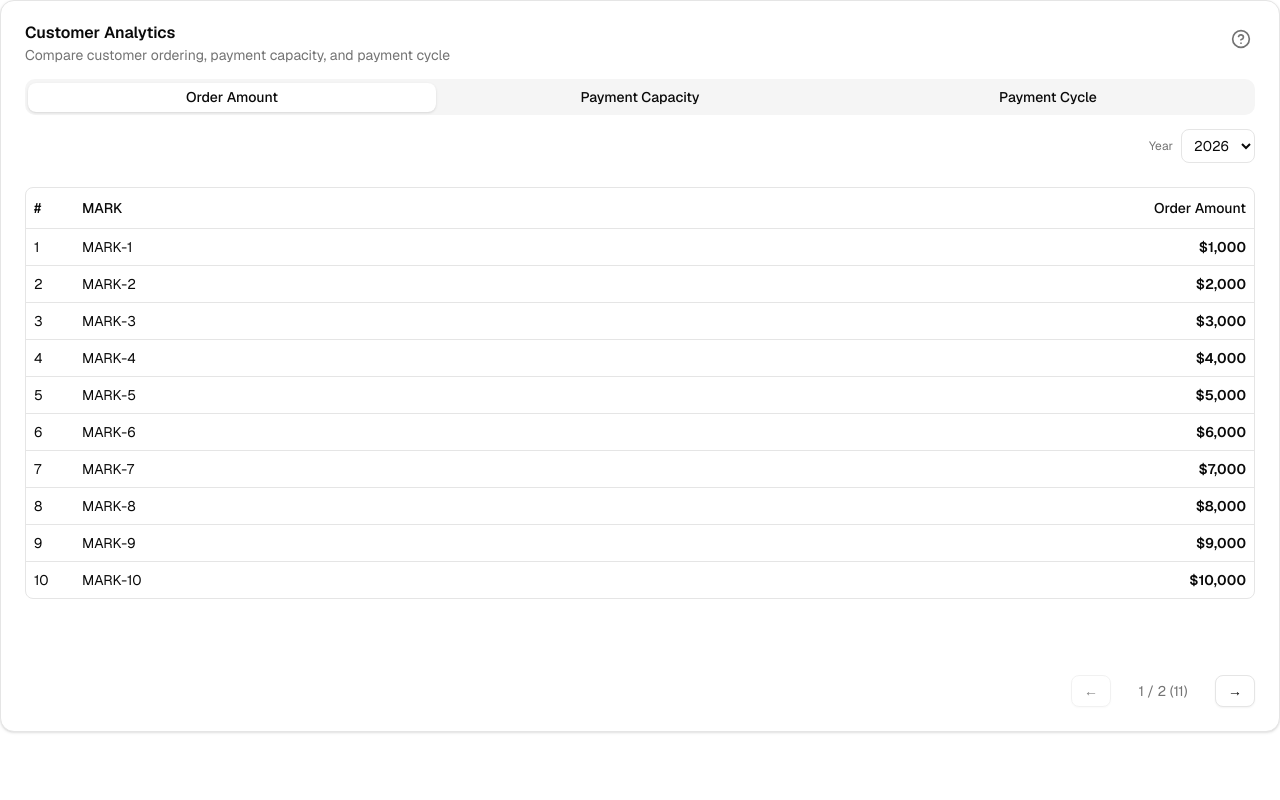
Test case: CustomerAnalyticsCard › keeps independent ten-row pages at the fixed card bottom
expect the row named "Open analytics detail for Customer 10" is shown: met, box [26,561,1254,598]
Click the button named "Next" at [1235, 691], box [1215,675,1255,707]
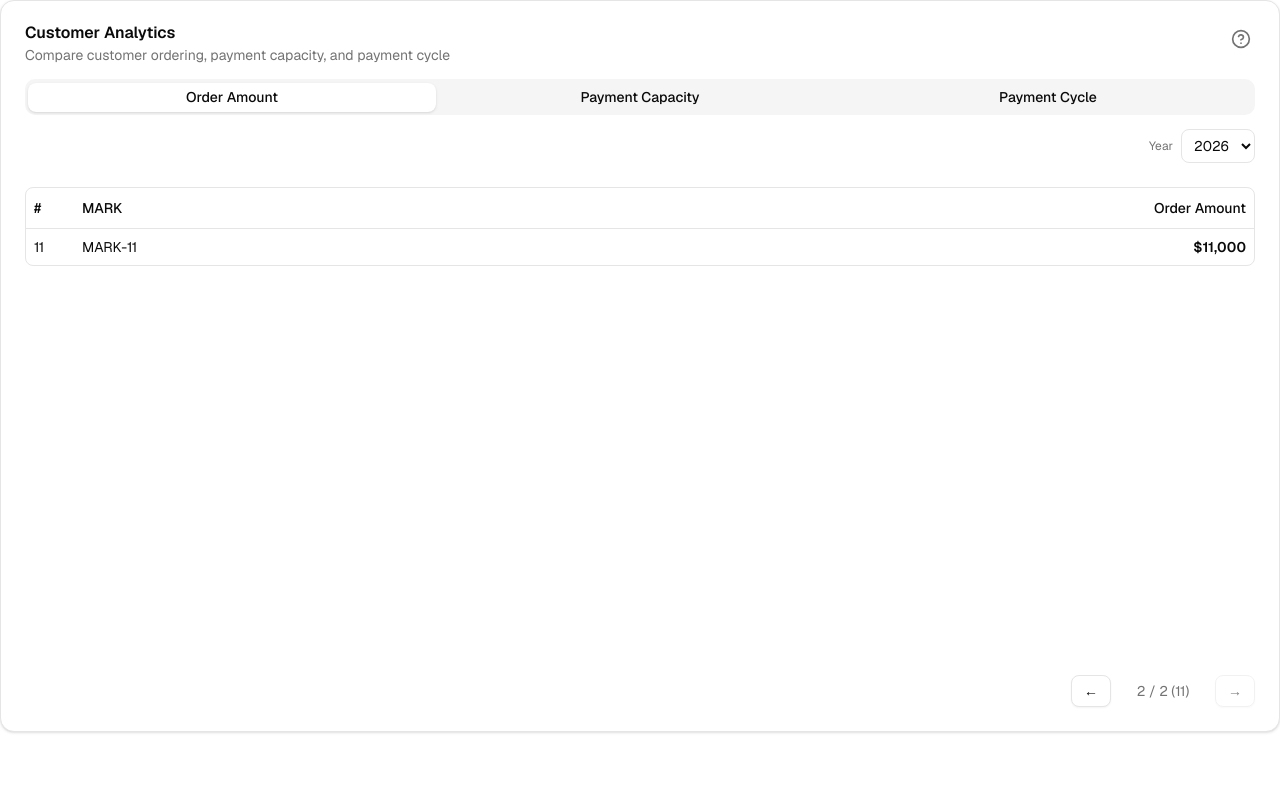
expect the row named "Open analytics detail for Customer 11" is shown: met, box [26,228,1254,264]
Press the mouse on the tab "Payment Capacity" at [640, 97], box [436,82,844,112]
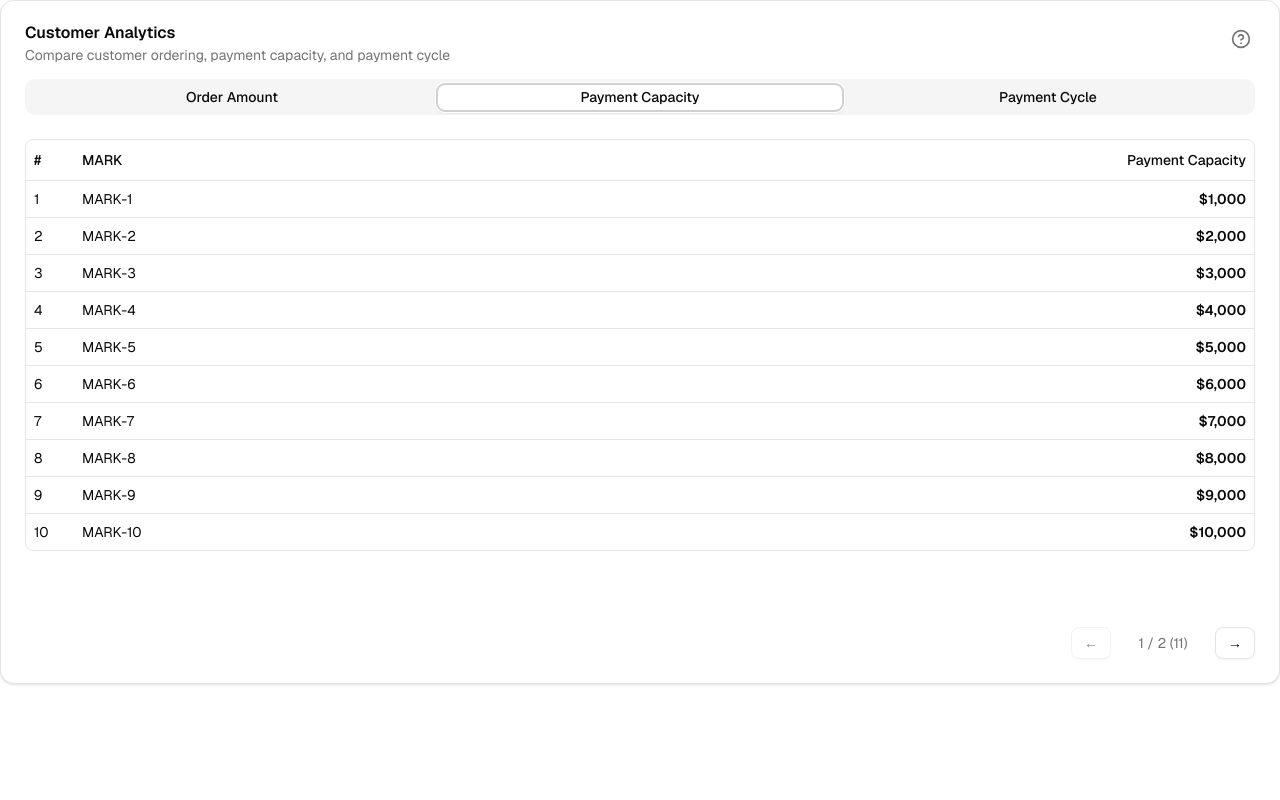
expect the text "1 / 2 (11)" is shown: met, box [1138,634,1188,652]
Press the mouse on the tab "Order Amount" at [232, 97], box [28,82,436,112]
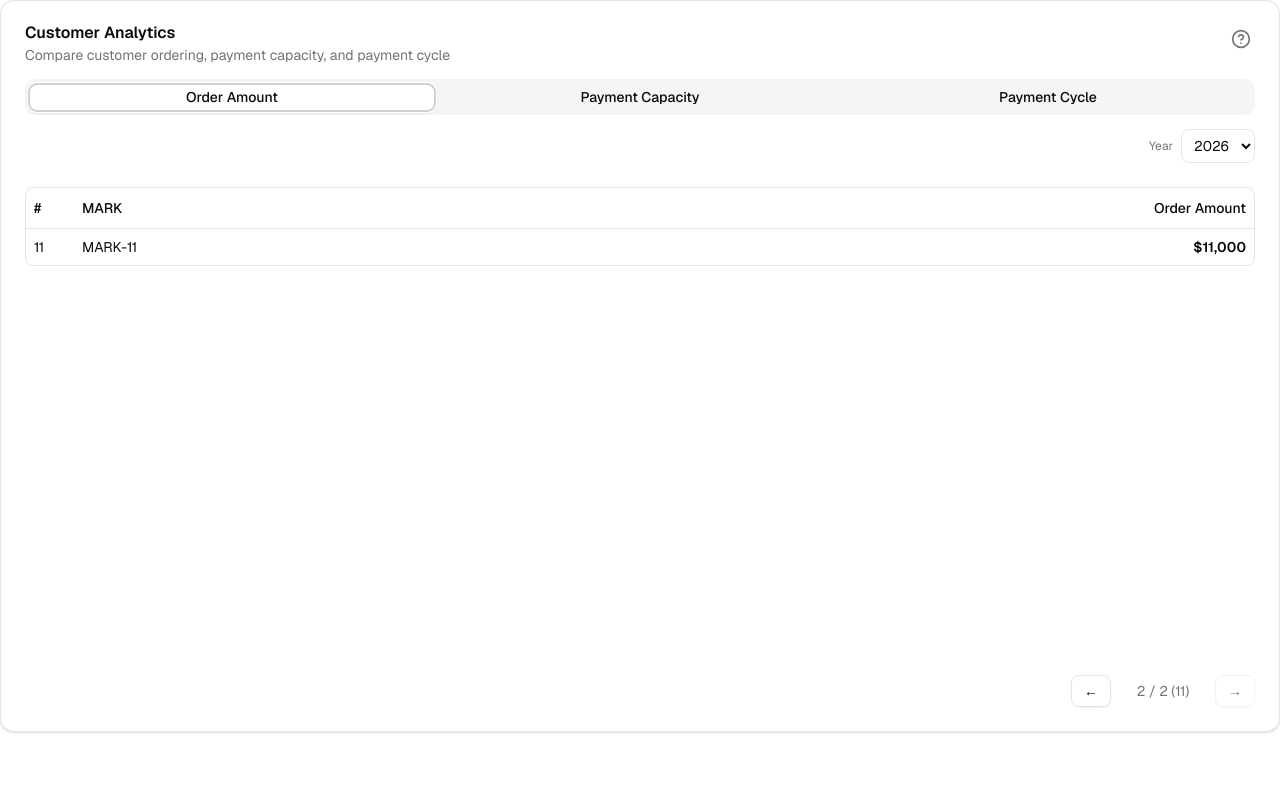
expect the text "2 / 2 (11)" is shown: met, box [1137,682,1189,700]
